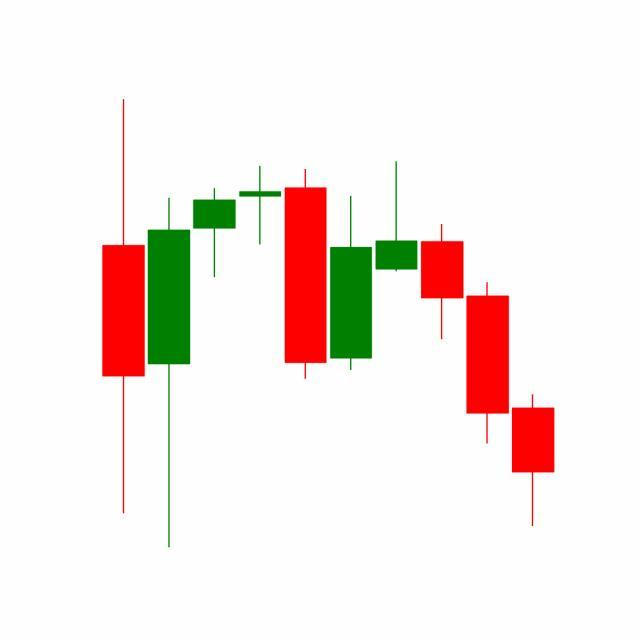Hikkake Pattern: (283, 158, 512, 448)
